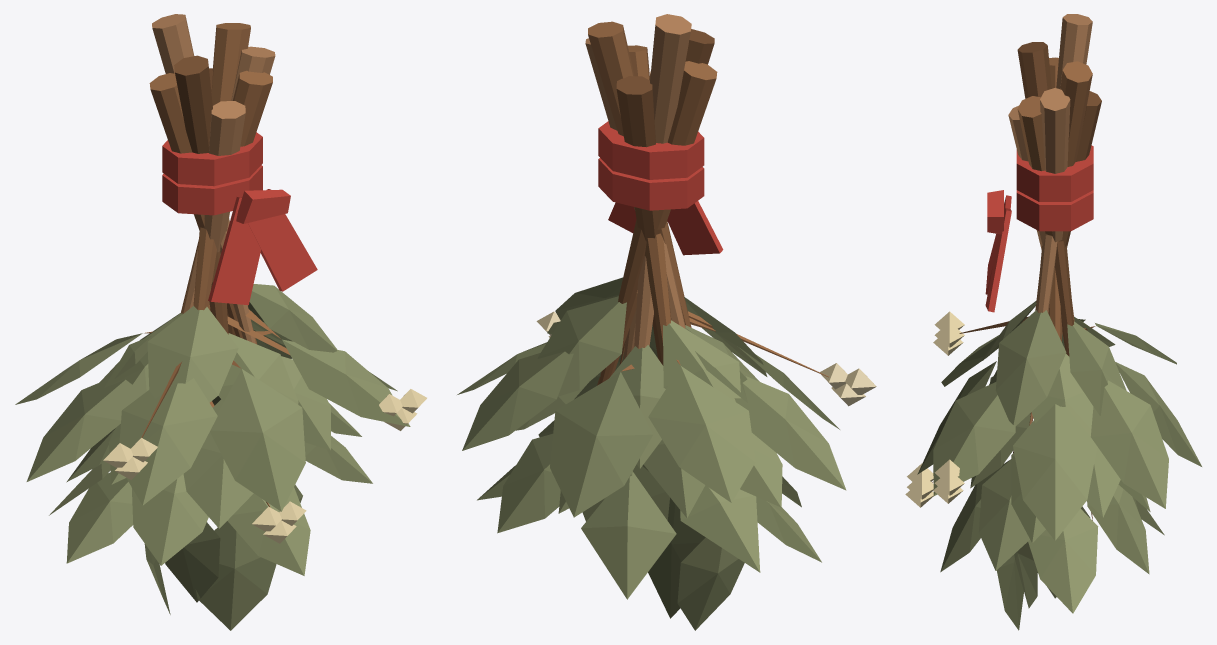
The model's file is FMS_Workshop_PRD_09.fbx.
3 views of the same model, side by side, from view 1: azimuth 30°, elevation 25°; view 2: azimuth 150°, elevation 25°; view 3: azimuth 270°, elevation 25° (orthographic). The views are drawn at different scales.
Parts seen in each view (by area): view 1: FMS_Workshop_PRD_09_Body; view 2: FMS_Workshop_PRD_09_Body; view 3: FMS_Workshop_PRD_09_Body.
Boxes of the visible parts, x1,y1,x2,y2 form: FMS_Workshop_PRD_09_Body: (15,14,426,630); FMS_Workshop_PRD_09_Body: (457,14,876,630); FMS_Workshop_PRD_09_Body: (905,14,1201,630).
Bounding box in the file's own units: 0.26 × 0.4 × 0.18.
1 material, 1 textured.
